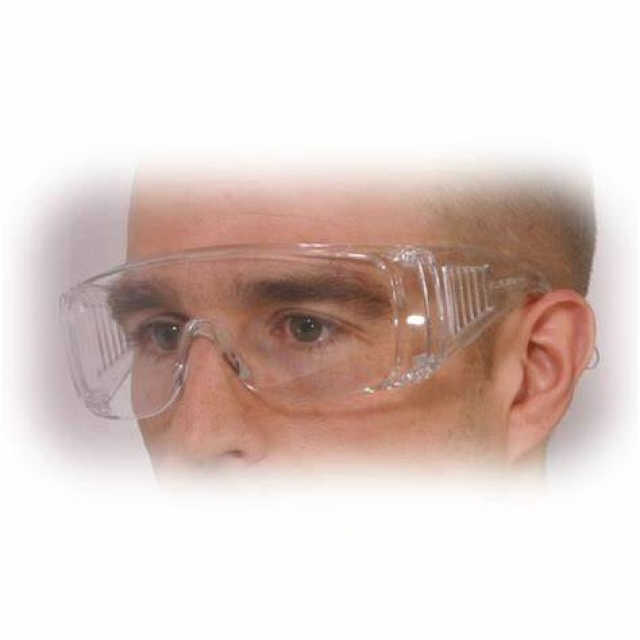Safety_Goggles: (37, 254, 500, 387)
